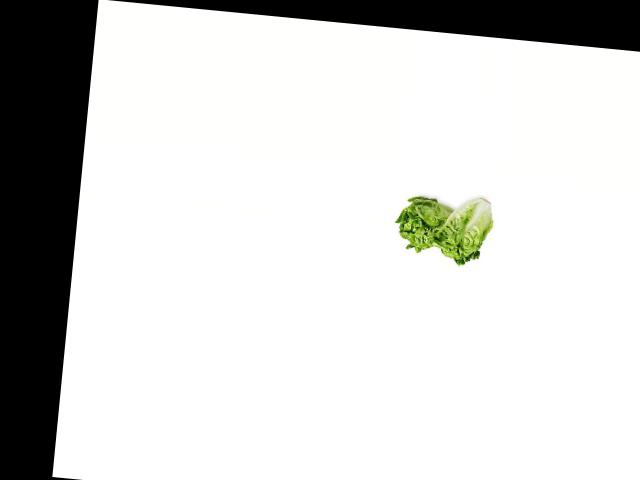lettuce: (393, 186, 459, 256)
